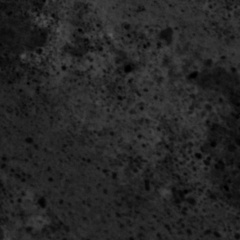Vegetation: (49, 1, 203, 240), (1, 154, 53, 237), (203, 1, 236, 72)
